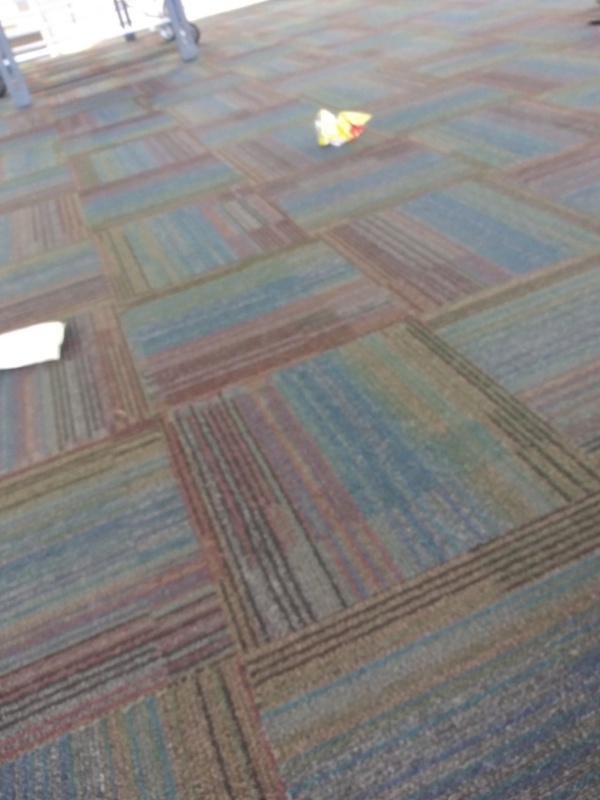bag: (1, 316, 71, 371), (310, 102, 380, 152)
